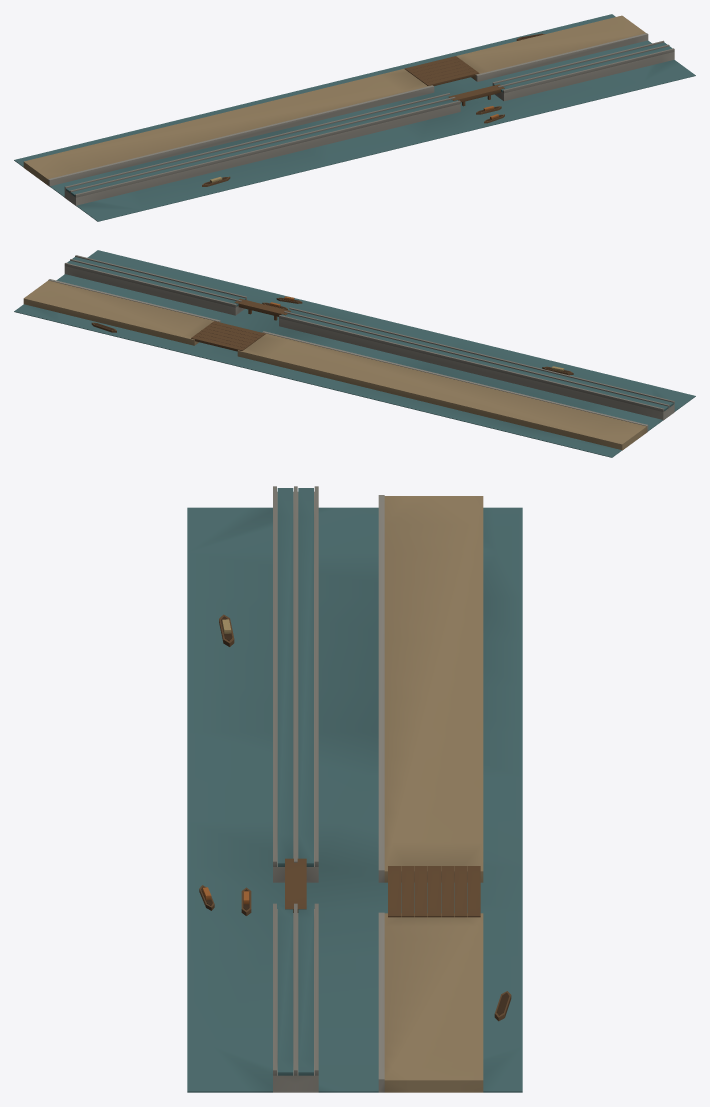
The model's file is aqueduct.glb.
The picture shows the model from 3 angles, top to bottom: view 1: azimuth 30°, elevation 25°; view 2: azimuth 150°, elevation 25°; view 3: azimuth 270°, elevation 25°; orthographic projection. The views are drawn at different scales.
Parts seen in each view (by area): view 1: p0_causeway, p1_aqueduct, p2_bridge; view 2: p0_causeway, p1_aqueduct, p2_bridge; view 3: p0_causeway, p1_aqueduct, p2_bridge.
Boxes of the visible parts, bbox=[...] form: p0_causeway: bbox=[14, 14, 695, 221]; p1_aqueduct: bbox=[64, 40, 674, 205]; p2_bridge: bbox=[202, 33, 545, 186]; p0_causeway: bbox=[14, 250, 695, 457]; p1_aqueduct: bbox=[64, 255, 674, 420]; p2_bridge: bbox=[91, 296, 573, 375]; p0_causeway: bbox=[187, 495, 522, 1092]; p1_aqueduct: bbox=[273, 486, 318, 1092]; p2_bridge: bbox=[199, 614, 511, 1021].
Size of the model in its own units: 140 by 2.55 by 34.
